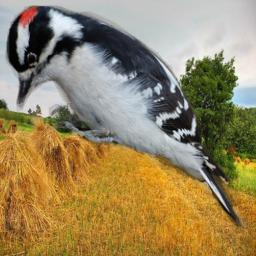Woodpecker: (3, 1, 250, 236)
